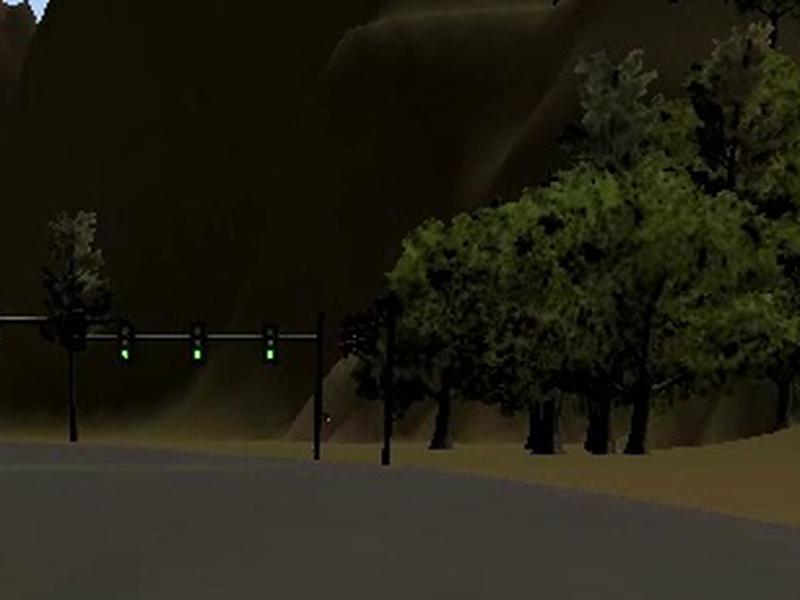Green: (118, 322, 133, 362), (263, 323, 278, 362), (190, 325, 206, 361)
